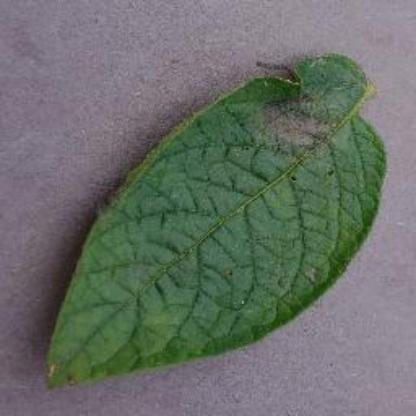Late-Blight: (47, 52, 393, 392)
